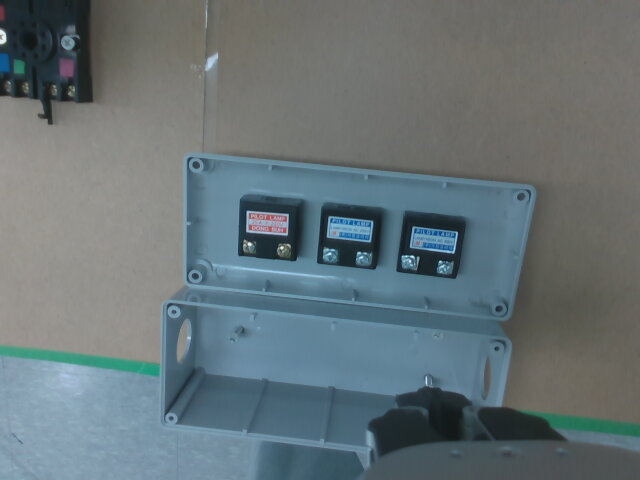L1(1): (242, 239, 256, 254)
L1(2): (277, 243, 291, 258)
L2(1): (323, 247, 338, 263)
L2(2): (356, 250, 371, 266)
L3(1): (402, 255, 417, 270)
L3(2): (437, 260, 453, 274)
